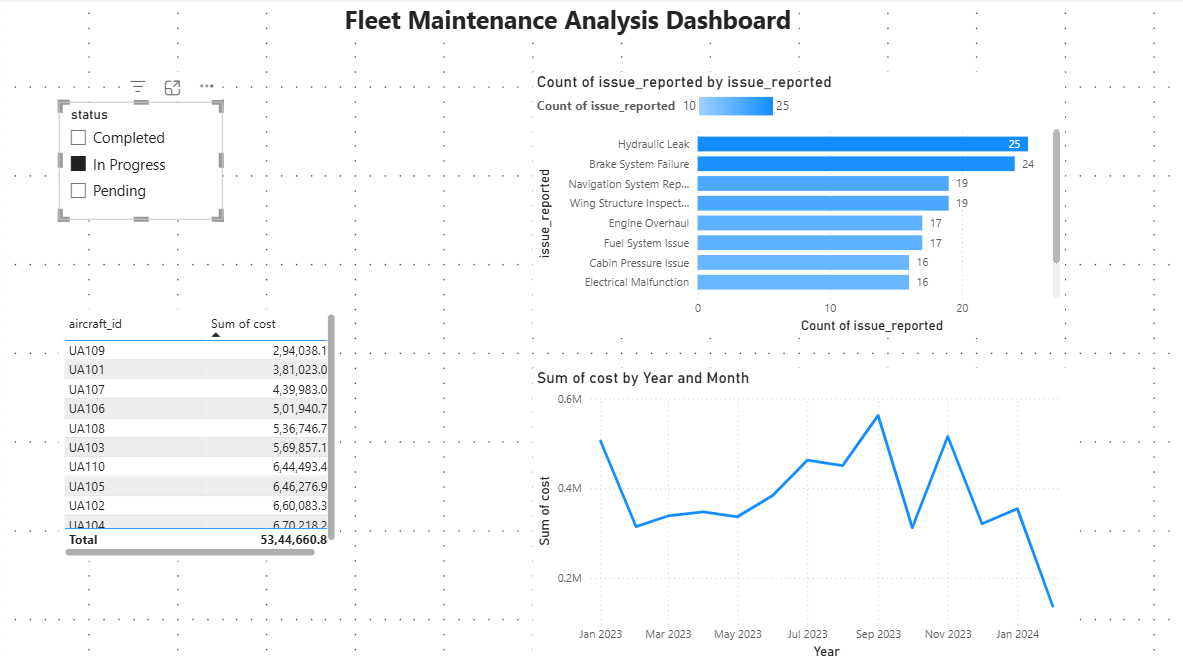

This screenshot's page, from the dashboard's own definition file:
{"tool":"powerbi","page":{"name":"Page 1","canvas":[1280,720],"ordinal":0},"visuals":[{"type":"clusteredBarChart","fields":{"Category":["public fleet_maintenance.issue_reported"],"Y":["CountNonNull(public fleet_maintenance.issue_reported)"]},"box":[576,80,576,288],"z":0},{"type":"lineChart","fields":{"Y":["Sum(public fleet_maintenance.cost)"],"Category":["public fleet_maintenance.maintenance_date.Variation.Date Hierarchy.Year","public fleet_maintenance.maintenance_date.Variation.Date Hierarchy.Month"]},"box":[576,400,592,320],"z":1000},{"type":"tableEx","fields":{"Values":["public fleet_maintenance.aircraft_id","Sum(public fleet_maintenance.cost)"]},"box":[64,336,304,272],"z":2000},{"type":"slicer","fields":{"Values":["public fleet_maintenance.status"]},"box":[64,112,176,128],"z":2001},{"type":"textbox","box":[368,0,496,48],"z":2002}]}

Visuals, with their boxes in screenshot pixels (x1, y1, x2, y2), scaled from the page's 1280x720 canvas onto the 1183x662 screenshot:
clusteredBarChart - public fleet_maintenance.issue_reported x CountNonNull(public fleet_maintenance.issue_reported): locate(532, 74, 1065, 338)
lineChart - Sum(public fleet_maintenance.cost) x public fleet_maintenance.maintenance_date.Variation.Date Hierarchy.Year: locate(532, 368, 1079, 661)
tableEx - public fleet_maintenance.aircraft_id x Sum(public fleet_maintenance.cost): locate(59, 309, 340, 559)
slicer - public fleet_maintenance.status: locate(59, 103, 222, 221)
textbox: locate(340, 0, 799, 44)
